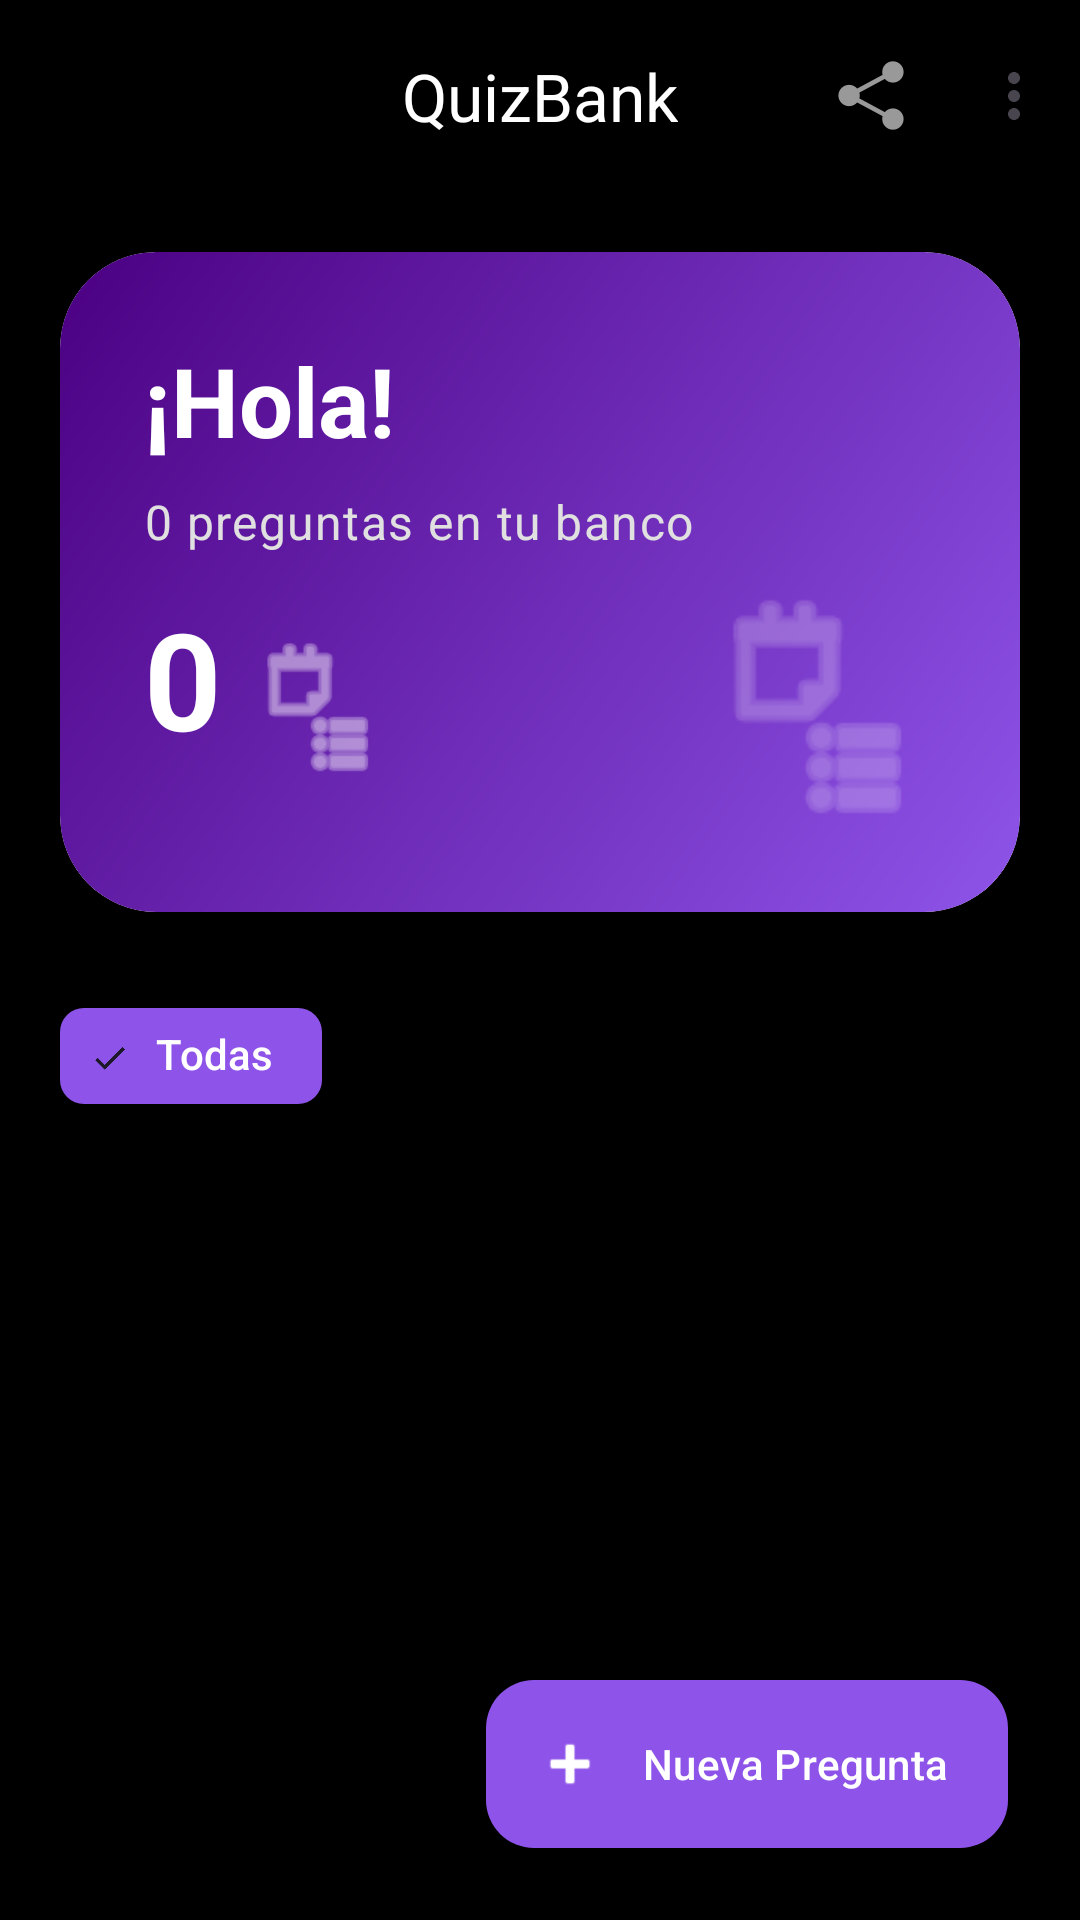

Locate icon controls on the screen. Image size 1080w x 1920h, boxes as (x1, y1, x2, y2).
agenda: (734, 601, 901, 813), (267, 643, 368, 771)
